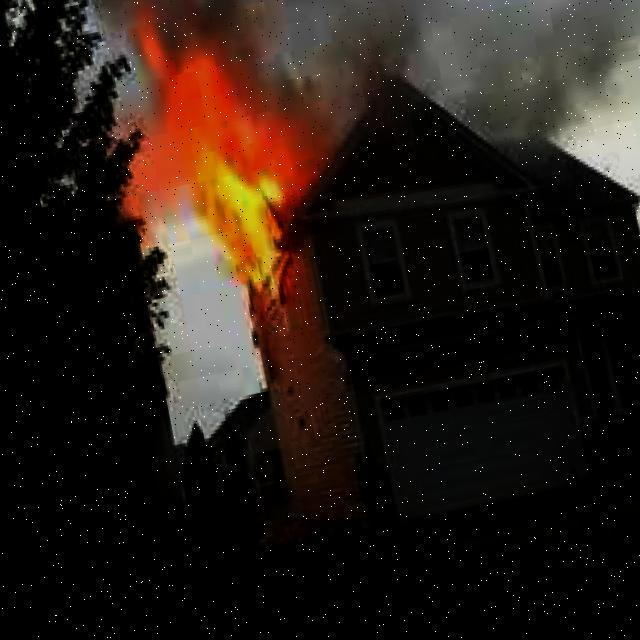Fire: (113, 0, 350, 314)
